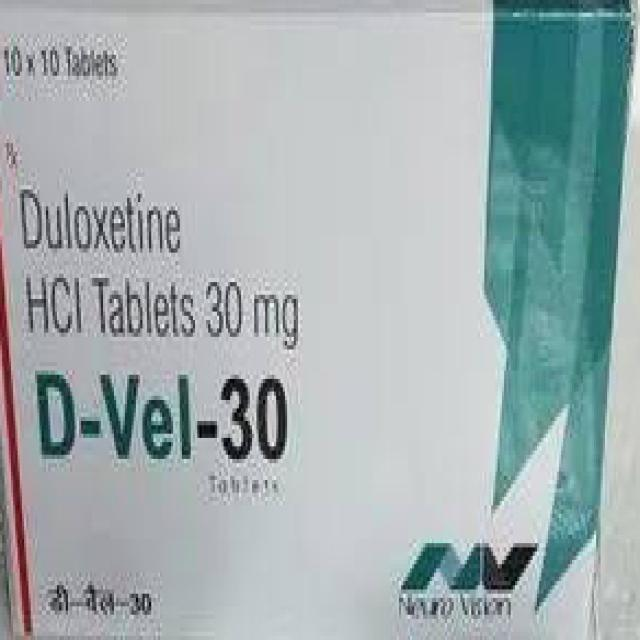drug-name: (25, 359, 294, 465)
